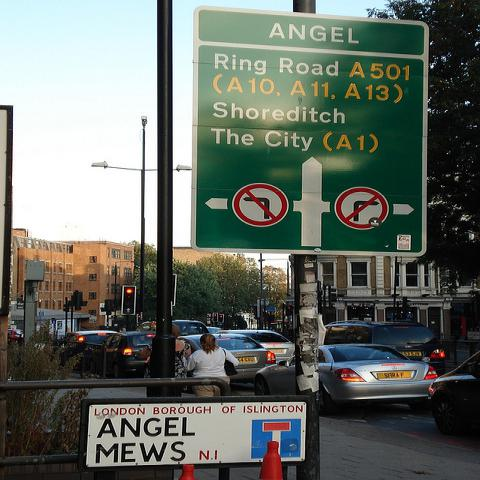car: (254, 343, 440, 416), (323, 322, 448, 374), (425, 350, 479, 436), (182, 332, 277, 380), (88, 330, 155, 379), (63, 328, 122, 373), (215, 330, 296, 362), (171, 320, 210, 336), (8, 329, 24, 339), (206, 326, 222, 333)
